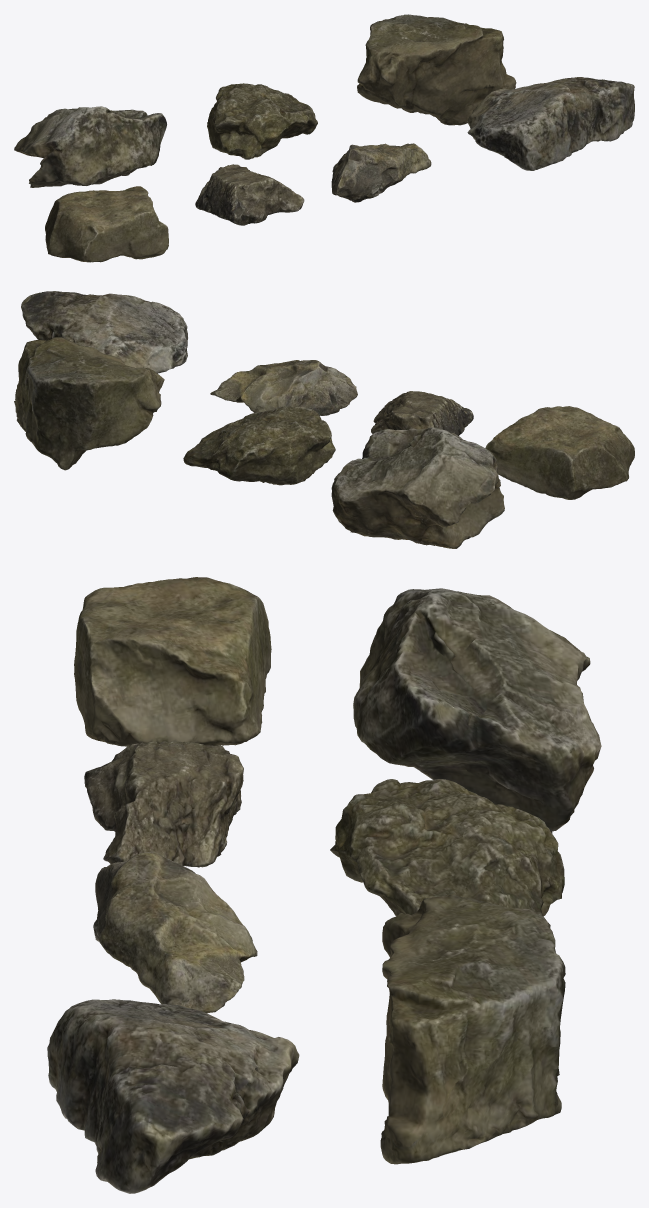
File: rock_moss_set_02_1k-v2.glb
3 renders of one model, top to bottom at view 1: azimuth 30°, elevation 25°; view 2: azimuth 150°, elevation 25°; view 3: azimuth 270°, elevation 25°, orthographic. The views are drawn at different scales.
Visible parts, largest first — view 1: rock_moss_set_02_rock13, rock_moss_set_02_rock10, rock_moss_set_02_rock11, rock_moss_set_02_rock07, rock_moss_set_02_rock12, rock_moss_set_02_rock08, rock_moss_set_02_rock09; view 2: rock_moss_set_02_rock11, rock_moss_set_02_rock13, rock_moss_set_02_rock07, rock_moss_set_02_rock10, rock_moss_set_02_rock12, rock_moss_set_02_rock09, rock_moss_set_02_rock08; view 3: rock_moss_set_02_rock13, rock_moss_set_02_rock11, rock_moss_set_02_rock10, rock_moss_set_02_rock07, rock_moss_set_02_rock12, rock_moss_set_02_rock09, rock_moss_set_02_rock08.
Boxes of the visible parts, x1,y1,x2,y2 form: rock_moss_set_02_rock13: (357,14,516,125); rock_moss_set_02_rock10: (467,77,634,170); rock_moss_set_02_rock11: (14,106,166,187); rock_moss_set_02_rock07: (45,186,168,262); rock_moss_set_02_rock12: (207,83,317,159); rock_moss_set_02_rock08: (195,164,304,225); rock_moss_set_02_rock09: (331,143,431,202); rock_moss_set_02_rock11: (331,427,504,548); rock_moss_set_02_rock13: (14,337,164,470); rock_moss_set_02_rock07: (485,406,634,499); rock_moss_set_02_rock10: (21,291,187,373); rock_moss_set_02_rock12: (183,406,335,485); rock_moss_set_02_rock09: (210,360,357,415); rock_moss_set_02_rock08: (371,391,473,435); rock_moss_set_02_rock13: (380,895,565,1164); rock_moss_set_02_rock11: (353,588,601,833); rock_moss_set_02_rock10: (47,999,299,1193); rock_moss_set_02_rock07: (74,577,271,746); rock_moss_set_02_rock12: (330,779,564,927); rock_moss_set_02_rock09: (93,851,257,1013); rock_moss_set_02_rock08: (84,741,243,867).
Size of the model in its own units: 8.28 by 1.37 by 3.41.
Materials: 7 (7 with a texture image).
